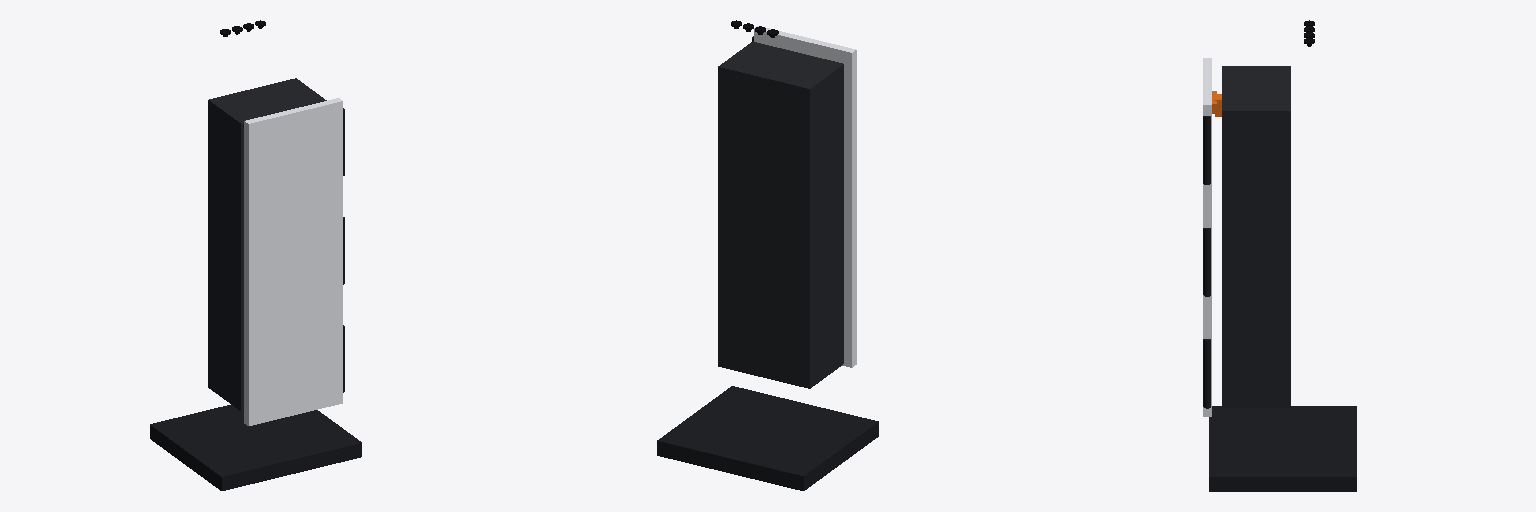
URDF robot description (tower_purifier):
<robot name="tower_purifier">
  <material name="shell_white">
    <color rgba="0.92 0.93 0.95 1" />
    </material>
  <material name="trim_charcoal">
    <color rgba="0.14 0.15 0.17 1" />
    </material>
  <material name="filter_frame">
    <color rgba="0.18 0.19 0.21 1" />
    </material>
  <material name="filter_media">
    <color rgba="0.36 0.46 0.52 1" />
    </material>
  <material name="tab_orange">
    <color rgba="0.91 0.47 0.16 1" />
    </material>
  <material name="button_black">
    <color rgba="0.08 0.09 0.1 1" />
    </material>
  <link name="housing">
    <visual name="shell">
      <geometry>
        <mesh filename="assets/meshes/purifier_housing.obj" />
        </geometry>
      <material name="shell_white">
        <color rgba="0.92 0.93 0.95 1" />
        </material>
      </visual>
    <visual name="base_ring">
      <origin xyz="0 0 0.013" rpy="0 0 0" />
      <geometry>
        <box size="0.265 0.235 0.026" />
        </geometry>
      <material name="trim_charcoal">
        <color rgba="0.14 0.15 0.17 1" />
        </material>
      </visual>
    <collision name="shell">
      <geometry>
        <mesh filename="assets/meshes/purifier_housing.obj" />
        </geometry>
      </collision>
    <collision name="base_ring">
      <origin xyz="0 0 0.013" rpy="0 0 0" />
      <geometry>
        <box size="0.265 0.235 0.026" />
        </geometry>
      </collision>
    </link>
  <link name="rear_door">
    <visual name="door_leaf">
      <origin xyz="-0.089 0 0" rpy="0 0 0" />
      <geometry>
        <box size="0.178 0.014 0.544" />
        </geometry>
      <material name="shell_white">
        <color rgba="0.92 0.93 0.95 1" />
        </material>
      </visual>
    <visual name="door_inset">
      <origin xyz="-0.085 -0.004 0" rpy="0 0 0" />
      <geometry>
        <box size="0.156 0.004 0.474" />
        </geometry>
      <material name="trim_charcoal">
        <color rgba="0.14 0.15 0.17 1" />
        </material>
      </visual>
    <visual name="hinge_knuckle_0">
      <origin xyz="0 0 -0.195" rpy="0 0 0" />
      <geometry>
        <cylinder radius="0.006" length="0.118" />
        </geometry>
      <material name="trim_charcoal">
        <color rgba="0.14 0.15 0.17 1" />
        </material>
      </visual>
    <visual name="hinge_knuckle_1">
      <geometry>
        <cylinder radius="0.006" length="0.118" />
        </geometry>
      <material name="trim_charcoal">
        <color rgba="0.14 0.15 0.17 1" />
        </material>
      </visual>
    <visual name="hinge_knuckle_2">
      <origin xyz="0 0 0.195" rpy="0 0 0" />
      <geometry>
        <cylinder radius="0.006" length="0.118" />
        </geometry>
      <material name="trim_charcoal">
        <color rgba="0.14 0.15 0.17 1" />
        </material>
      </visual>
    <collision name="door_leaf">
      <origin xyz="-0.089 0 0" rpy="0 0 0" />
      <geometry>
        <box size="0.178 0.014 0.544" />
        </geometry>
      </collision>
    <collision name="door_inset">
      <origin xyz="-0.085 -0.004 0" rpy="0 0 0" />
      <geometry>
        <box size="0.156 0.004 0.474" />
        </geometry>
      </collision>
    <collision name="hinge_knuckle_0">
      <origin xyz="0 0 -0.195" rpy="0 0 0" />
      <geometry>
        <cylinder radius="0.006" length="0.118" />
        </geometry>
      </collision>
    <collision name="hinge_knuckle_1">
      <geometry>
        <cylinder radius="0.006" length="0.118" />
        </geometry>
      </collision>
    <collision name="hinge_knuckle_2">
      <origin xyz="0 0 0.195" rpy="0 0 0" />
      <geometry>
        <cylinder radius="0.006" length="0.118" />
        </geometry>
      </collision>
    </link>
  <link name="filter">
    <visual name="cartridge">
      <origin xyz="0 0.054 0" rpy="0 0 0" />
      <geometry>
        <box size="0.166 0.108 0.518" />
        </geometry>
      <material name="filter_frame">
        <color rgba="0.18 0.19 0.21 1" />
        </material>
      </visual>
    <visual name="media">
      <origin xyz="0 0.057 0" rpy="0 0 0" />
      <geometry>
        <box size="0.146 0.09 0.478" />
        </geometry>
      <material name="filter_media">
        <color rgba="0.36 0.46 0.52 1" />
        </material>
      </visual>
    <visual name="tab_stem">
      <origin xyz="0 -0.004 0.229" rpy="0 0 0" />
      <geometry>
        <box size="0.022 0.014 0.03" />
        </geometry>
      <material name="tab_orange">
        <color rgba="0.91 0.47 0.16 1" />
        </material>
      </visual>
    <visual name="tab_pull">
      <origin xyz="0 -0.013 0.235" rpy="0 0 0" />
      <geometry>
        <box size="0.05 0.008 0.016" />
        </geometry>
      <material name="tab_orange">
        <color rgba="0.91 0.47 0.16 1" />
        </material>
      </visual>
    <collision name="cartridge">
      <origin xyz="0 0.054 0" rpy="0 0 0" />
      <geometry>
        <box size="0.166 0.108 0.518" />
        </geometry>
      </collision>
    <collision name="media">
      <origin xyz="0 0.057 0" rpy="0 0 0" />
      <geometry>
        <box size="0.146 0.09 0.478" />
        </geometry>
      </collision>
    <collision name="tab_stem">
      <origin xyz="0 -0.004 0.229" rpy="0 0 0" />
      <geometry>
        <box size="0.022 0.014 0.03" />
        </geometry>
      </collision>
    <collision name="tab_pull">
      <origin xyz="0 -0.013 0.235" rpy="0 0 0" />
      <geometry>
        <box size="0.05 0.008 0.016" />
        </geometry>
      </collision>
    </link>
  <link name="button_0">
    <visual name="button_cap">
      <origin xyz="0 0 0.0016" rpy="0 0 0" />
      <geometry>
        <cylinder radius="0.009" length="0.0032" />
        </geometry>
      <material name="button_black">
        <color rgba="0.08 0.09 0.1 1" />
        </material>
      </visual>
    <visual name="button_stem">
      <origin xyz="0 0 -0.003" rpy="0 0 0" />
      <geometry>
        <cylinder radius="0.0037" length="0.006" />
        </geometry>
      <material name="button_black">
        <color rgba="0.08 0.09 0.1 1" />
        </material>
      </visual>
    <collision name="button_cap">
      <origin xyz="0 0 0.0016" rpy="0 0 0" />
      <geometry>
        <cylinder radius="0.009" length="0.0032" />
        </geometry>
      </collision>
    <collision name="button_stem">
      <origin xyz="0 0 -0.003" rpy="0 0 0" />
      <geometry>
        <cylinder radius="0.0037" length="0.006" />
        </geometry>
      </collision>
    </link>
  <link name="button_1">
    <visual name="button_cap">
      <origin xyz="0 0 0.0016" rpy="0 0 0" />
      <geometry>
        <cylinder radius="0.009" length="0.0032" />
        </geometry>
      <material name="button_black">
        <color rgba="0.08 0.09 0.1 1" />
        </material>
      </visual>
    <visual name="button_stem">
      <origin xyz="0 0 -0.003" rpy="0 0 0" />
      <geometry>
        <cylinder radius="0.0037" length="0.006" />
        </geometry>
      <material name="button_black">
        <color rgba="0.08 0.09 0.1 1" />
        </material>
      </visual>
    <collision name="button_cap">
      <origin xyz="0 0 0.0016" rpy="0 0 0" />
      <geometry>
        <cylinder radius="0.009" length="0.0032" />
        </geometry>
      </collision>
    <collision name="button_stem">
      <origin xyz="0 0 -0.003" rpy="0 0 0" />
      <geometry>
        <cylinder radius="0.0037" length="0.006" />
        </geometry>
      </collision>
    </link>
  <link name="button_2">
    <visual name="button_cap">
      <origin xyz="0 0 0.0016" rpy="0 0 0" />
      <geometry>
        <cylinder radius="0.009" length="0.0032" />
        </geometry>
      <material name="button_black">
        <color rgba="0.08 0.09 0.1 1" />
        </material>
      </visual>
    <visual name="button_stem">
      <origin xyz="0 0 -0.003" rpy="0 0 0" />
      <geometry>
        <cylinder radius="0.0037" length="0.006" />
        </geometry>
      <material name="button_black">
        <color rgba="0.08 0.09 0.1 1" />
        </material>
      </visual>
    <collision name="button_cap">
      <origin xyz="0 0 0.0016" rpy="0 0 0" />
      <geometry>
        <cylinder radius="0.009" length="0.0032" />
        </geometry>
      </collision>
    <collision name="button_stem">
      <origin xyz="0 0 -0.003" rpy="0 0 0" />
      <geometry>
        <cylinder radius="0.0037" length="0.006" />
        </geometry>
      </collision>
    </link>
  <link name="button_3">
    <visual name="button_cap">
      <origin xyz="0 0 0.0016" rpy="0 0 0" />
      <geometry>
        <cylinder radius="0.009" length="0.0032" />
        </geometry>
      <material name="button_black">
        <color rgba="0.08 0.09 0.1 1" />
        </material>
      </visual>
    <visual name="button_stem">
      <origin xyz="0 0 -0.003" rpy="0 0 0" />
      <geometry>
        <cylinder radius="0.0037" length="0.006" />
        </geometry>
      <material name="button_black">
        <color rgba="0.08 0.09 0.1 1" />
        </material>
      </visual>
    <collision name="button_cap">
      <origin xyz="0 0 0.0016" rpy="0 0 0" />
      <geometry>
        <cylinder radius="0.009" length="0.0032" />
        </geometry>
      </collision>
    <collision name="button_stem">
      <origin xyz="0 0 -0.003" rpy="0 0 0" />
      <geometry>
        <cylinder radius="0.0037" length="0.006" />
        </geometry>
      </collision>
    </link>
  <joint name="housing_to_button_0" type="prismatic">
    <origin xyz="-0.033 0.042 0.737" rpy="0 0 0" />
    <parent link="housing" />
    <child link="button_0" />
    <axis xyz="0 0 -1" />
    <limit effort="8" velocity="0.05" lower="0" upper="0.0015" />
    </joint>
  <joint name="housing_to_button_1" type="prismatic">
    <origin xyz="-0.011 0.042 0.737" rpy="0 0 0" />
    <parent link="housing" />
    <child link="button_1" />
    <axis xyz="0 0 -1" />
    <limit effort="8" velocity="0.05" lower="0" upper="0.0015" />
    </joint>
  <joint name="housing_to_button_2" type="prismatic">
    <origin xyz="0.011 0.042 0.737" rpy="0 0 0" />
    <parent link="housing" />
    <child link="button_2" />
    <axis xyz="0 0 -1" />
    <limit effort="8" velocity="0.05" lower="0" upper="0.0015" />
    </joint>
  <joint name="housing_to_button_3" type="prismatic">
    <origin xyz="0.033 0.042 0.737" rpy="0 0 0" />
    <parent link="housing" />
    <child link="button_3" />
    <axis xyz="0 0 -1" />
    <limit effort="8" velocity="0.05" lower="0" upper="0.0015" />
    </joint>
  <joint name="housing_to_rear_door" type="revolute">
    <origin xyz="0.091 -0.1195 0.382" rpy="0 0 0" />
    <parent link="housing" />
    <child link="rear_door" />
    <axis xyz="0 0 1" />
    <limit effort="12" velocity="1.2" lower="0" upper="2.05" />
    </joint>
  <joint name="housing_to_filter" type="prismatic">
    <origin xyz="0 -0.0955 0.382" rpy="0 0 0" />
    <parent link="housing" />
    <child link="filter" />
    <axis xyz="0 -1 0" />
    <limit effort="30" velocity="0.15" lower="0" upper="0.078" />
    </joint>
  </robot>

--- Facts derived from the render (not from the file) ---
The picture shows the robot from 3 angles, left to right: view 1: azimuth 30°, elevation 25°; view 2: azimuth 150°, elevation 25°; view 3: azimuth 270°, elevation 25°; orthographic projection.
Robot: tower_purifier — 7 links, 6 joints (1 revolute, 5 prismatic); root link housing; default pose: every joint at zero.
Visible links, largest first — view 1: rear_door, filter, housing; view 2: filter, housing, rear_door; view 3: filter, housing, rear_door.
Link boxes in pixels (bbox=[...]): rear_door: bbox=[244, 98, 344, 425]; filter: bbox=[208, 78, 326, 411]; housing: bbox=[150, 405, 361, 490]; filter: bbox=[718, 42, 843, 388]; housing: bbox=[657, 386, 878, 490]; rear_door: bbox=[752, 26, 856, 367]; filter: bbox=[1212, 66, 1290, 407]; housing: bbox=[1209, 406, 1356, 491]; rear_door: bbox=[1203, 58, 1211, 416].
Size in the robot's own frame: 0.265 by 0.244 by 0.7402 metres.
Meshes: 1 distinct files referenced, 0 mesh visuals loaded (none loaded); not drawn: 1 (reference not matched to a file when rendering).
